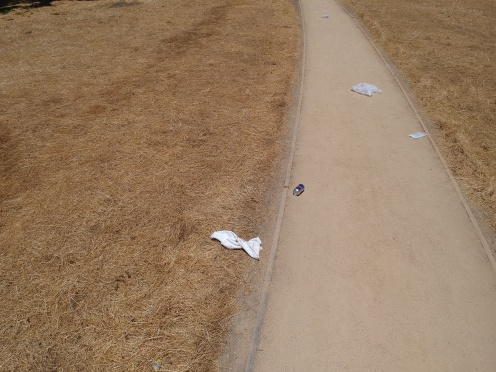bottle: (318, 11, 332, 20)
can: (291, 178, 307, 197)
plastic bag: (346, 74, 382, 97)
